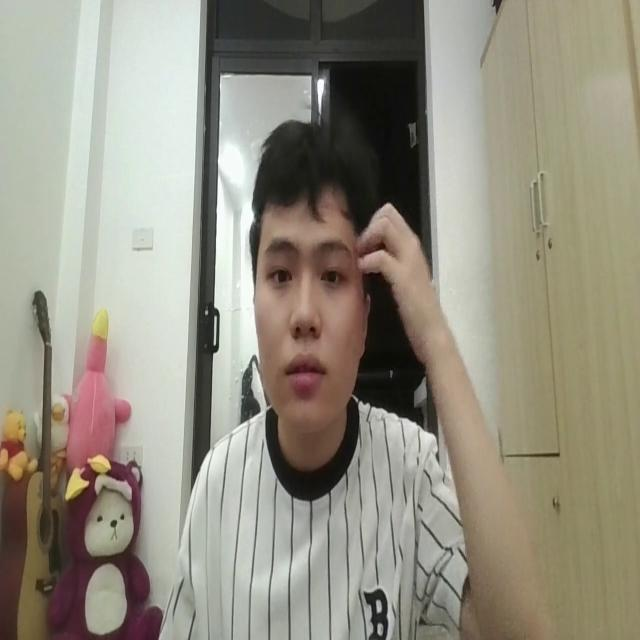student: (165, 114, 546, 640)
